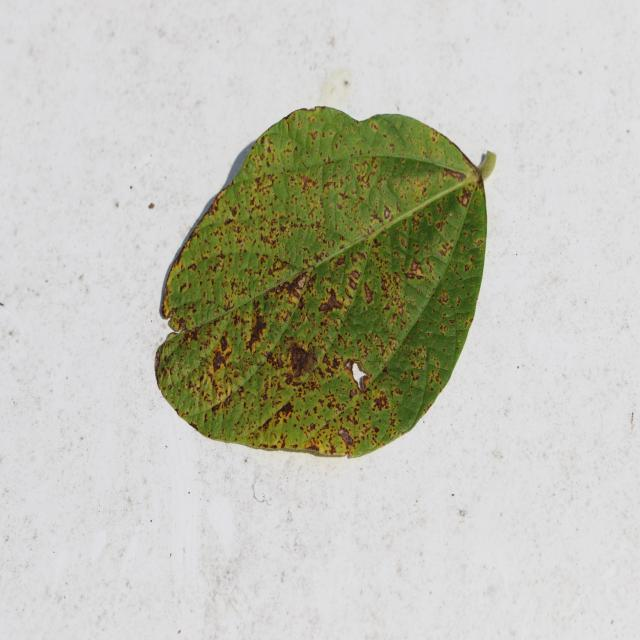Bacterial_Blight: (286, 341, 318, 377), (243, 309, 268, 350), (252, 173, 281, 206), (275, 273, 306, 302), (279, 214, 310, 238), (320, 287, 341, 313), (210, 394, 233, 415), (211, 346, 228, 373), (404, 259, 425, 280), (337, 426, 354, 449), (442, 166, 466, 182), (299, 172, 318, 192), (181, 327, 199, 348), (210, 252, 226, 275), (276, 400, 294, 418), (458, 186, 473, 207), (372, 394, 388, 412), (436, 289, 450, 307), (165, 307, 177, 328), (363, 282, 374, 304), (438, 241, 453, 257), (304, 440, 321, 453), (154, 349, 161, 377), (360, 374, 371, 390), (362, 224, 374, 237), (220, 335, 229, 351), (423, 401, 433, 415), (339, 191, 350, 203), (334, 256, 346, 267), (439, 323, 450, 335), (230, 205, 239, 218), (383, 206, 391, 220), (323, 156, 334, 166), (308, 130, 317, 142), (187, 262, 197, 272), (345, 360, 354, 371), (630, 411, 635, 429), (179, 282, 187, 293), (394, 387, 403, 396), (279, 223, 287, 233), (349, 388, 357, 398), (459, 508, 467, 517), (455, 297, 461, 308), (308, 115, 316, 123), (431, 135, 438, 144), (476, 238, 483, 247), (266, 145, 272, 154), (465, 263, 471, 272), (192, 422, 198, 431), (289, 114, 295, 122), (449, 212, 454, 219), (239, 242, 244, 249)
Soybean: (155, 107, 495, 457)
